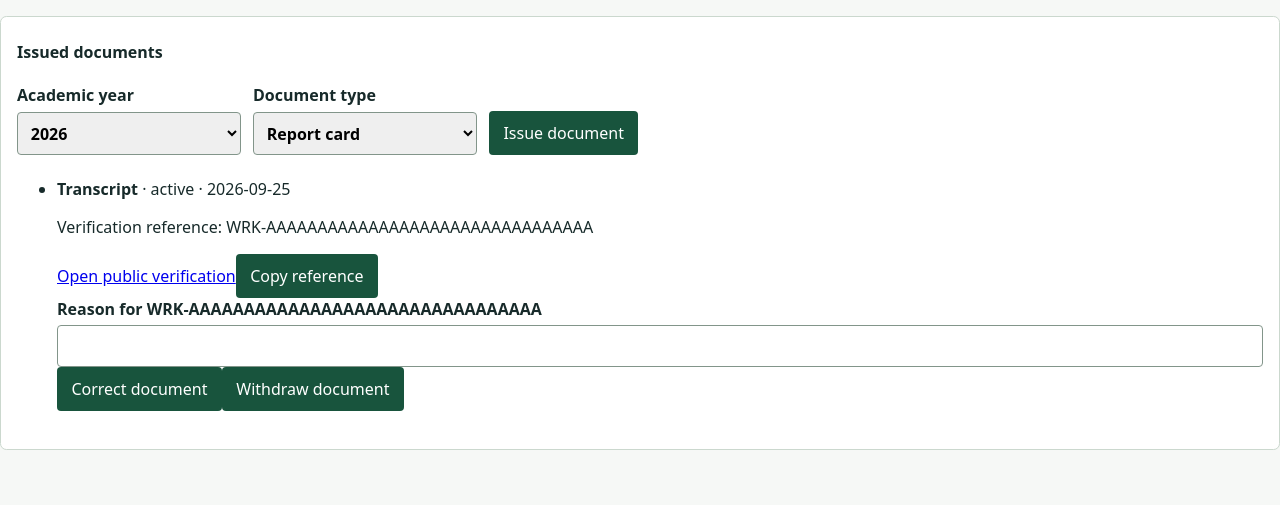
Scenario: issued document panel › requires a reason before correction or withdrawal
This screenshot has width=1280, height=505.
Step 1. Click the button "Withdraw document" → coordinates (313, 389), box x1=222 y1=367 x2=404 y2=411
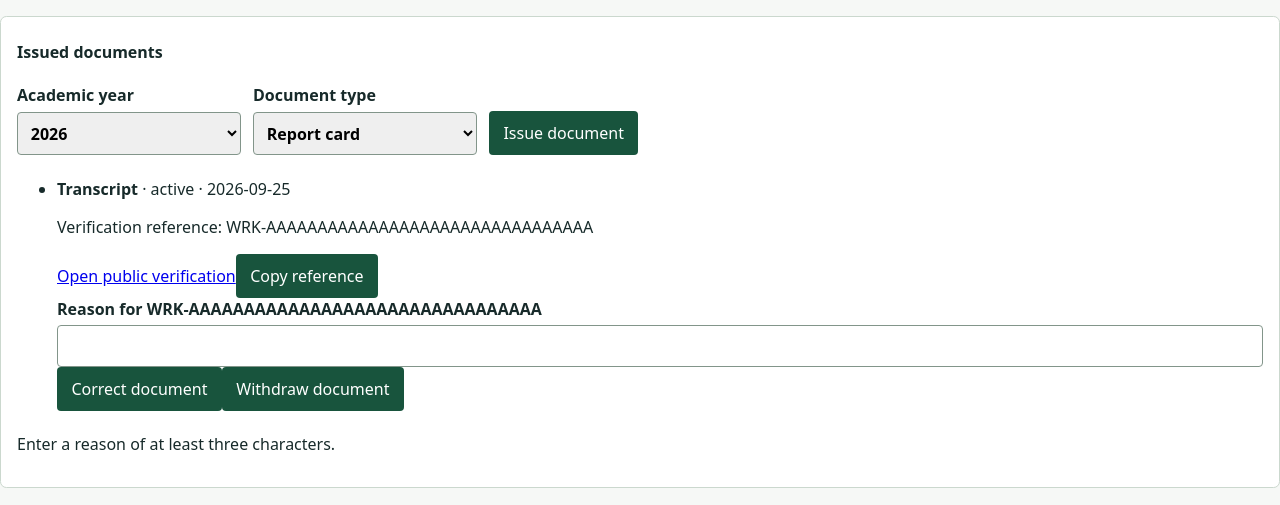
Now the text "Enter a reason of at least three characters." is shown, box x1=17 y1=433 x2=335 y2=455
